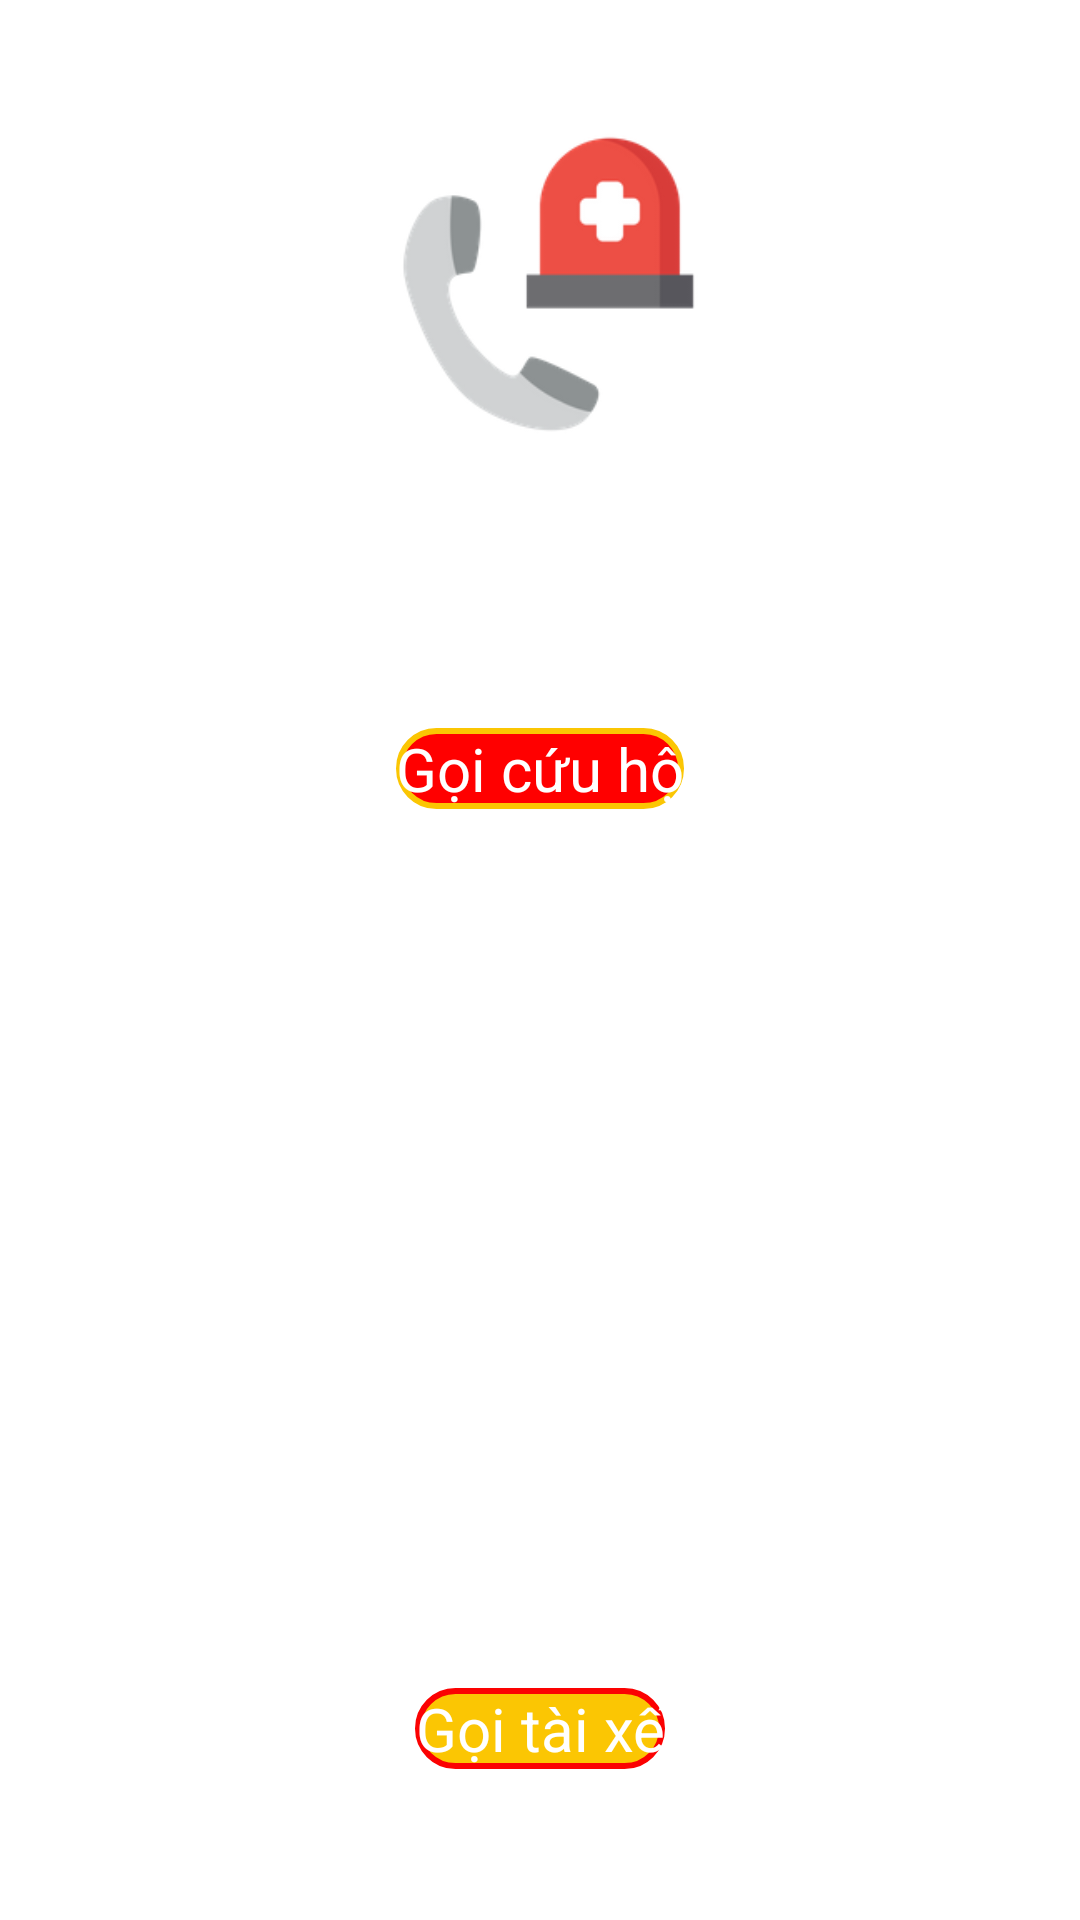

Icon click points for this 1080 x 1920 phone screenshot, format (x,y):
emergency: (549,283)
